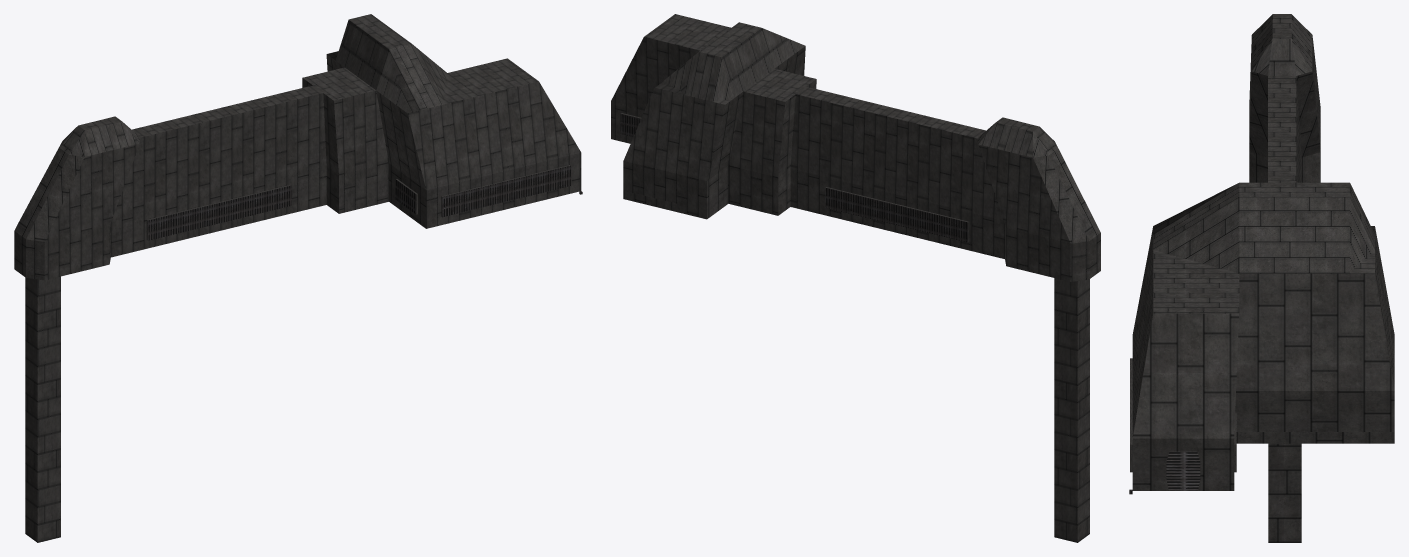
Rendered from apme interior.fbx.
3 views of the same model, side by side, from view 1: azimuth 30°, elevation 25°; view 2: azimuth 150°, elevation 25°; view 3: azimuth 270°, elevation 25° (orthographic). The views are drawn at different scales.
Visible parts, largest first — view 1: Plane; view 2: Plane; view 3: Plane.
Part boxes in pixels (x1=…): Plane: x1=14, y1=14, x2=582, y2=542; Plane: x1=611, y1=14, x2=1100, y2=542; Plane: x1=1129, y1=14, x2=1394, y2=542.
Size of the model in its own units: 208245 by 164716 by 69259.
2 materials, 2 textured.
